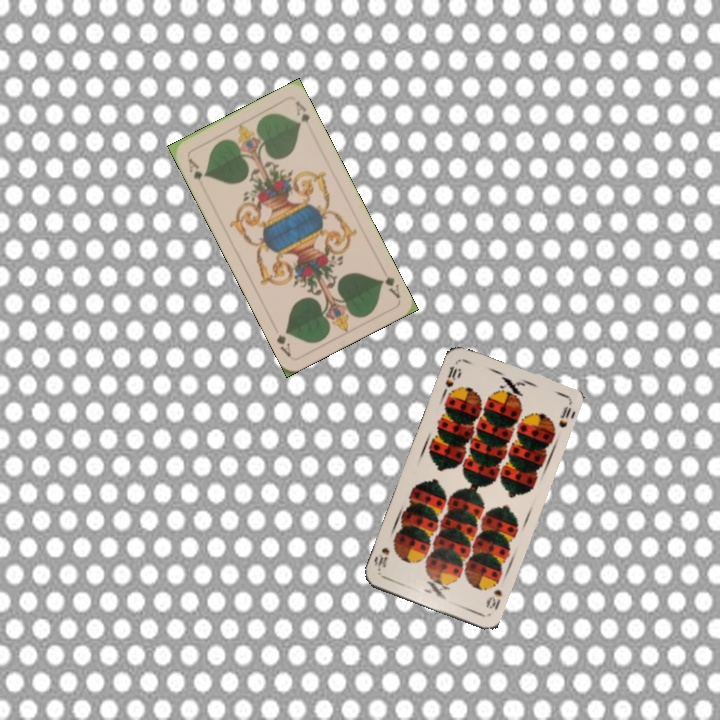GA: (376, 272, 403, 301), (184, 154, 208, 183)
S10: (482, 585, 505, 612), (441, 362, 463, 390)
